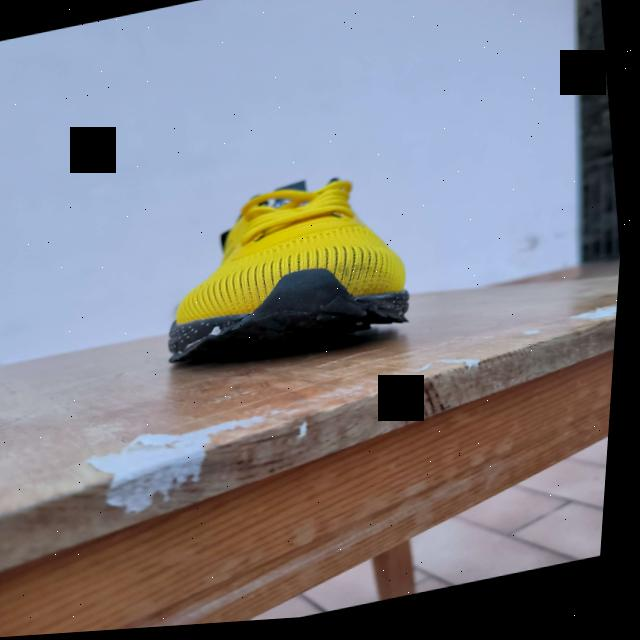shoes: (150, 164, 424, 376)
